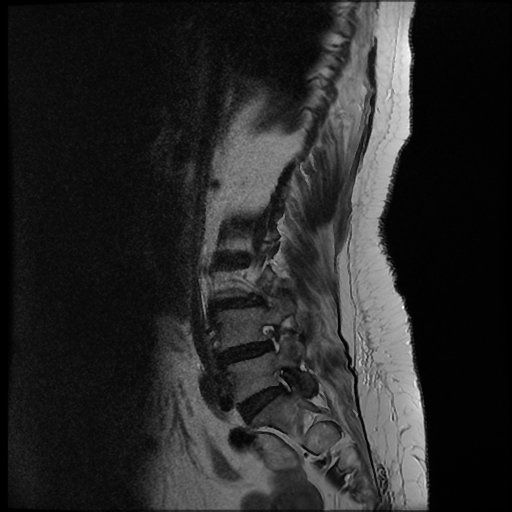RFS0: (256, 315, 290, 358)
